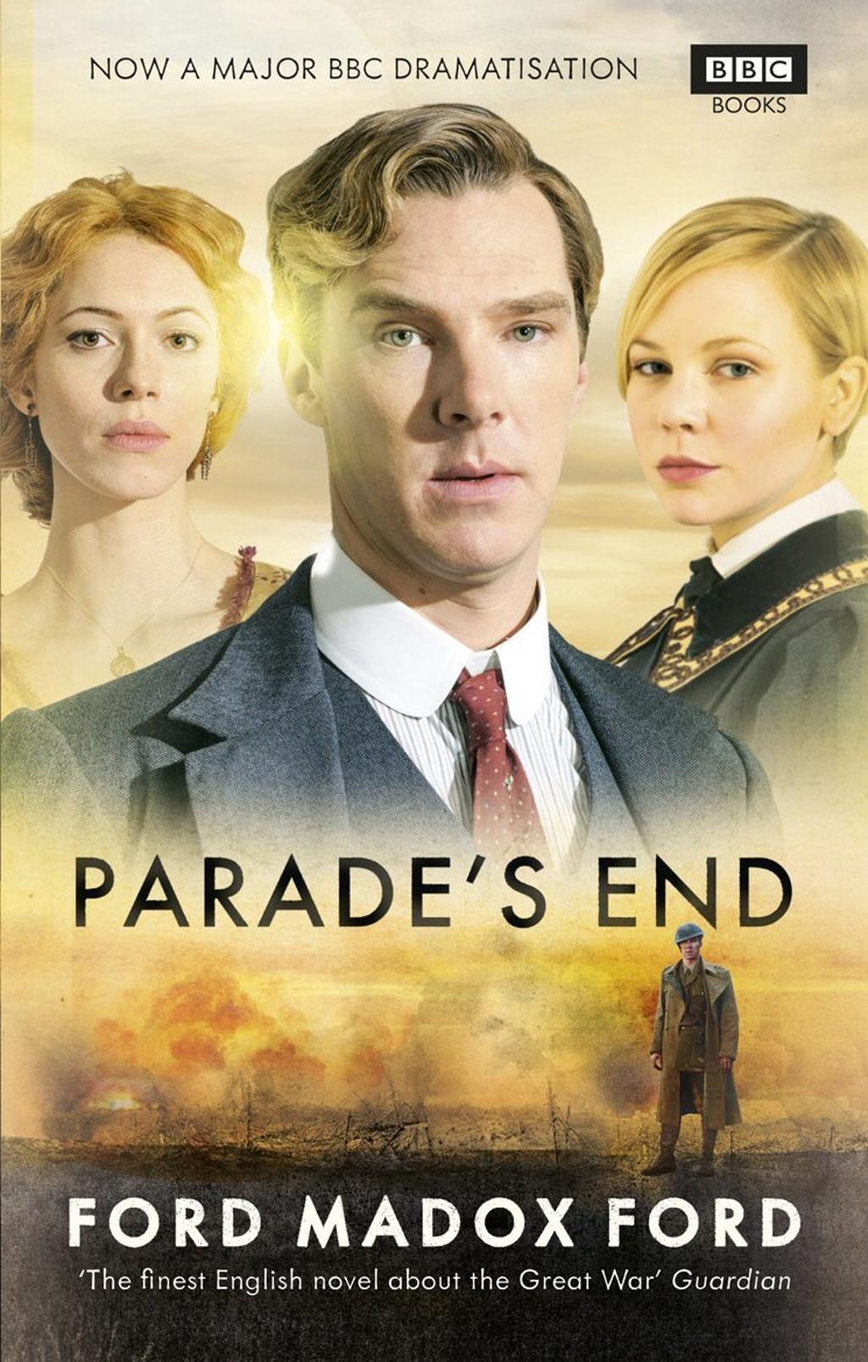human_face: (318, 215, 579, 570), (625, 276, 823, 525), (33, 253, 216, 498), (679, 937, 699, 958)
